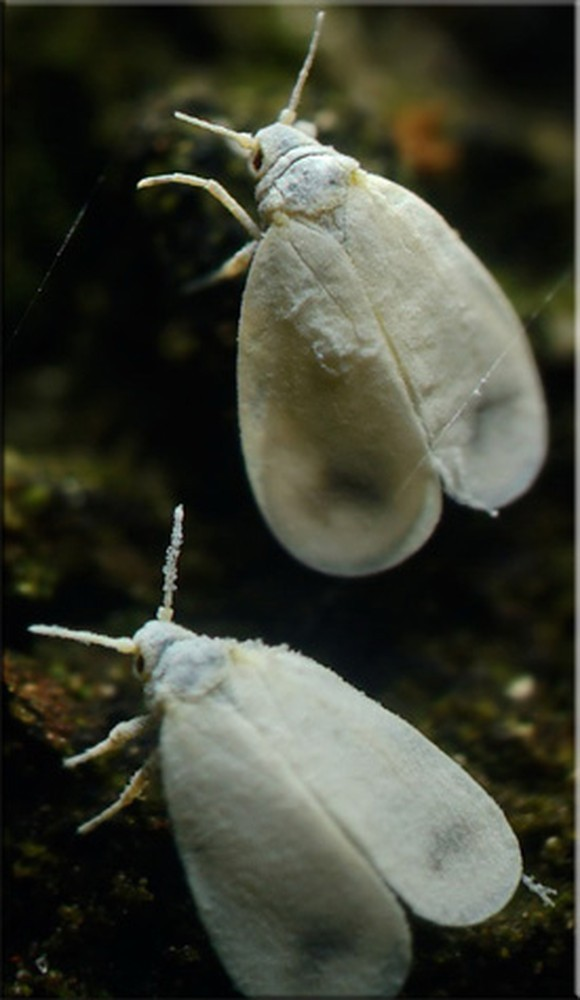Mosca Blanca: (98, 11, 571, 588), (13, 519, 571, 1000)
